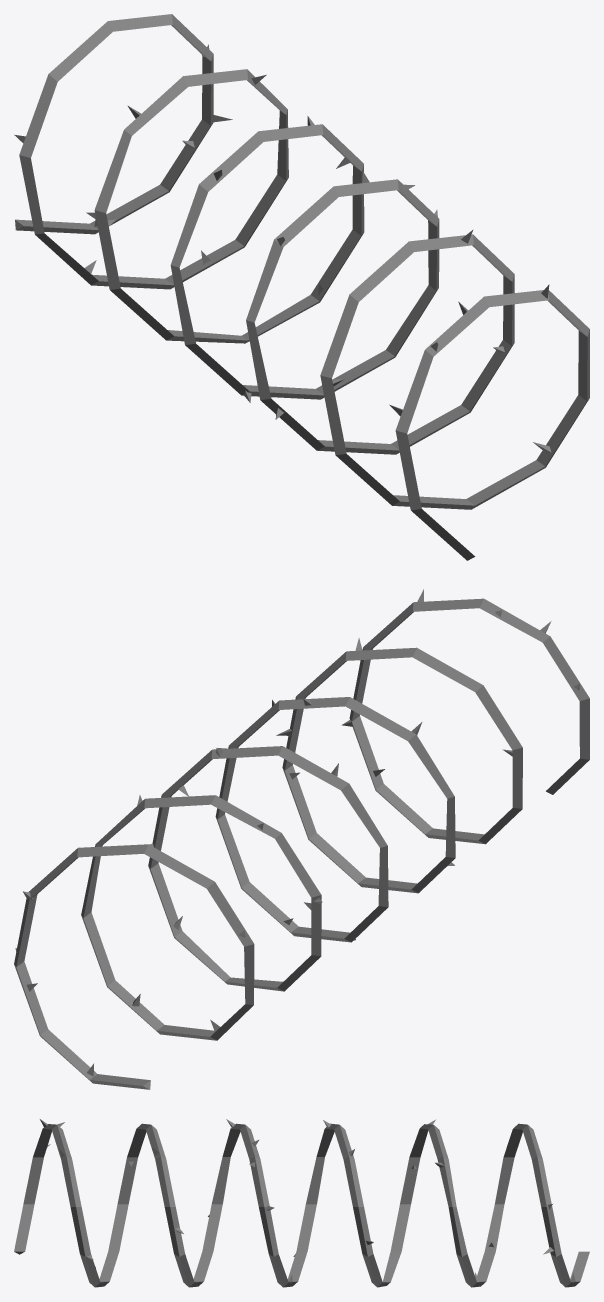
File: model_barbed_wire_coil.fbx
3 renders of one model, top to bottom at view 1: azimuth 30°, elevation 25°; view 2: azimuth 150°, elevation 25°; view 3: azimuth 270°, elevation 25°, orthographic. The views are drawn at different scales.
Visible parts, largest first — view 1: pCone34; view 2: pCone34; view 3: pCone34.
Part boxes in pixels (box(x1,y1,x2,y2)): pCone34: box(14, 14, 589, 560); pCone34: box(14, 589, 589, 1089); pCone34: box(14, 1119, 589, 1287).
Bounding box in the file's own units: 120 × 115 × 389.
1 material, 1 textured.
